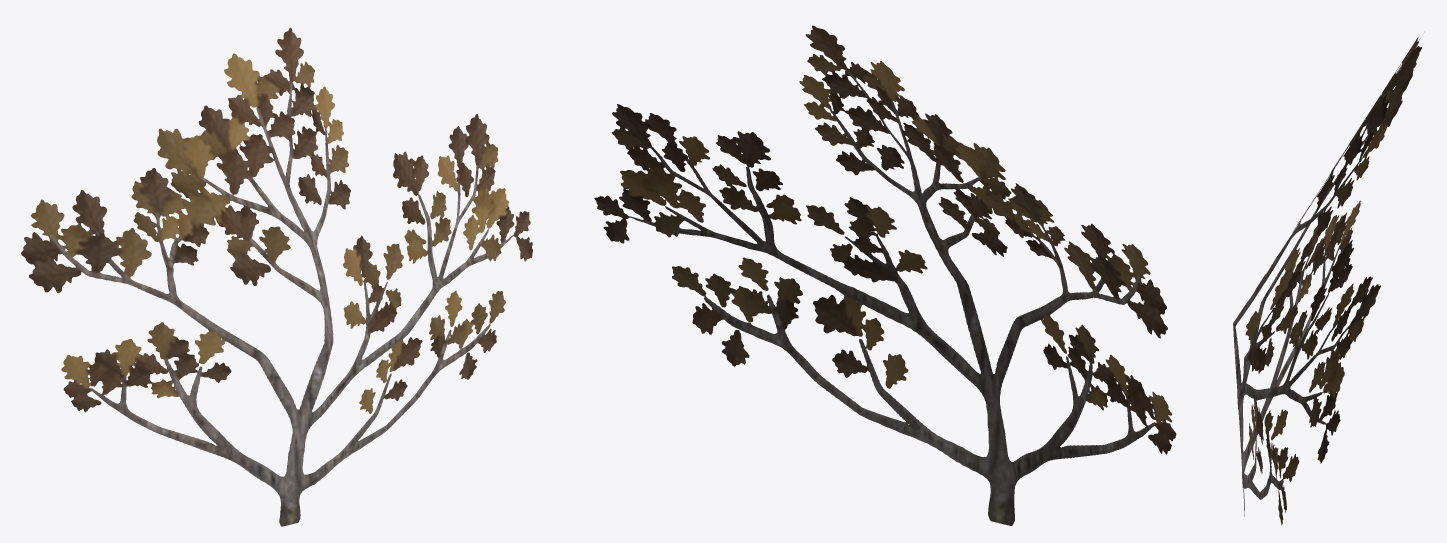
Rendered from rama_arbol_2.fbx.
3 renders of one model, left to right at view 1: azimuth 30°, elevation 25°; view 2: azimuth 150°, elevation 25°; view 3: azimuth 270°, elevation 25°, orthographic. The views are drawn at different scales.
Parts seen in each view (by area): view 1: rama_arbol_2; view 2: rama_arbol_2; view 3: rama_arbol_2.
Boxes of the visible parts, x1,y1,x2,y2 form: rama_arbol_2: [21, 27, 532, 526]; rama_arbol_2: [594, 25, 1176, 525]; rama_arbol_2: [1233, 37, 1421, 525].
Bounding box in the file's own units: 195 × 166 × 56.87.
